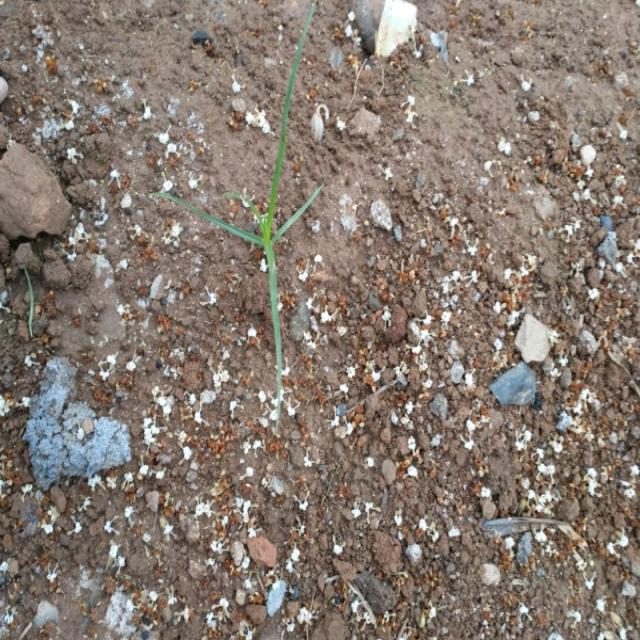sedge: (172, 34, 358, 413)
